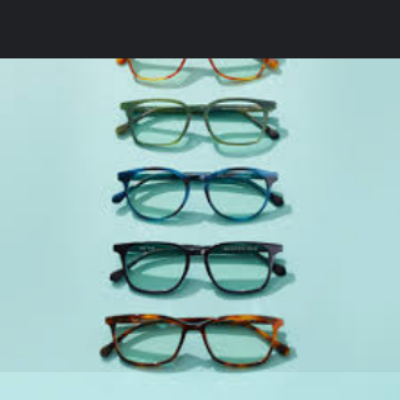glasses: (99, 158, 298, 232), (100, 308, 297, 372), (103, 239, 294, 298), (113, 98, 290, 151), (116, 50, 283, 88)
